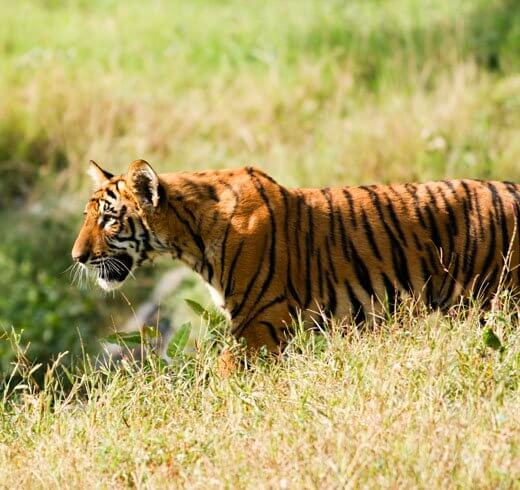Tiger: (70, 146, 520, 343)
